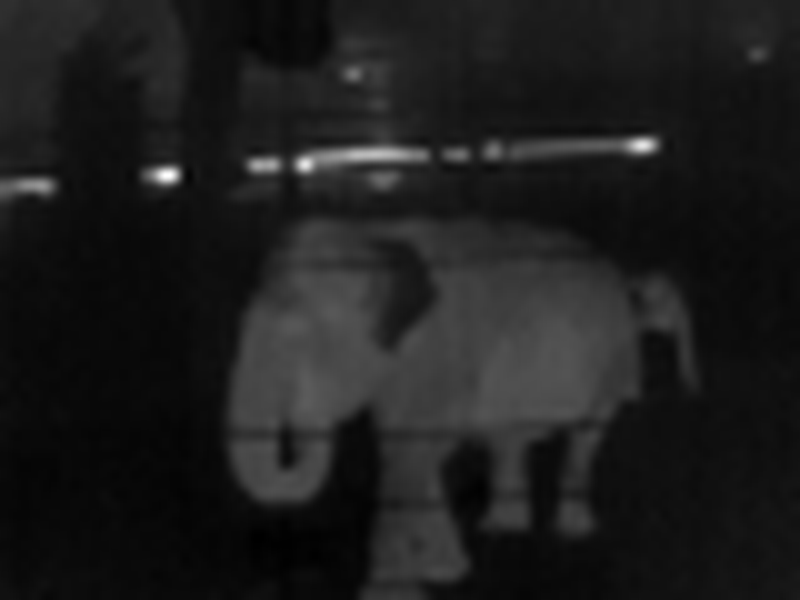elephant: (205, 202, 694, 587)
